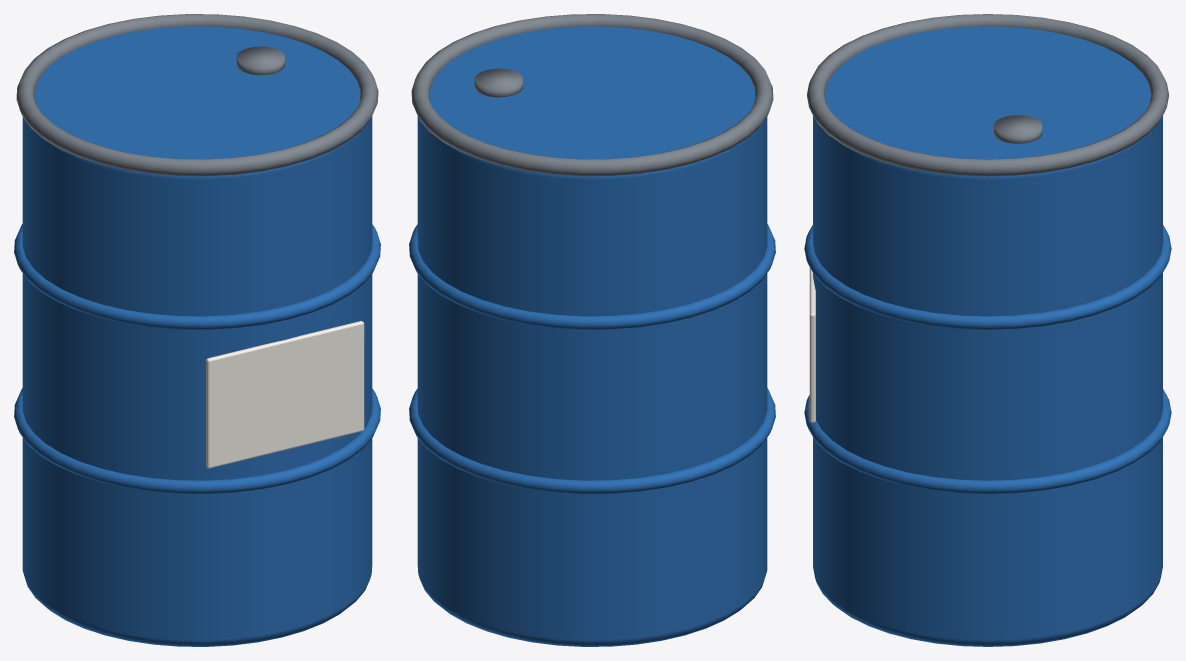
File: drum_blue.glb
3 renders of one model, left to right at view 1: azimuth 30°, elevation 25°; view 2: azimuth 150°, elevation 25°; view 3: azimuth 270°, elevation 25°, orthographic.
Visible parts, largest first — view 1: Barrel, Label, Rim.001, Rib, Rib.001, Bung; view 2: Barrel, Rim.001, Rib, Rib.001, Bung; view 3: Barrel, Rim.001, Rib.001, Rib, Bung, Label.
Boxes of the visible parts, left/top/right/bottom form: Barrel: left=22, top=26, right=372, bottom=646; Label: left=206, top=321, right=364, bottom=468; Rim.001: left=16, top=14, right=378, bottom=176; Rib: left=14, top=388, right=380, bottom=493; Rib.001: left=14, top=224, right=380, bottom=329; Bung: left=236, top=46, right=284, bottom=74; Barrel: left=417, top=26, right=767, bottom=646; Rim.001: left=411, top=14, right=773, bottom=176; Rib: left=409, top=388, right=775, bottom=493; Rib.001: left=409, top=224, right=775, bottom=329; Bung: left=474, top=68, right=522, bottom=97; Barrel: left=813, top=26, right=1162, bottom=646; Rim.001: left=807, top=14, right=1168, bottom=176; Rib.001: left=804, top=225, right=1171, bottom=329; Rib: left=804, top=389, right=1171, bottom=493; Bung: left=994, top=115, right=1042, bottom=143; Label: left=809, top=267, right=815, bottom=422.
Bounding box in the file's own units: 0.608 × 0.895 × 0.608.
